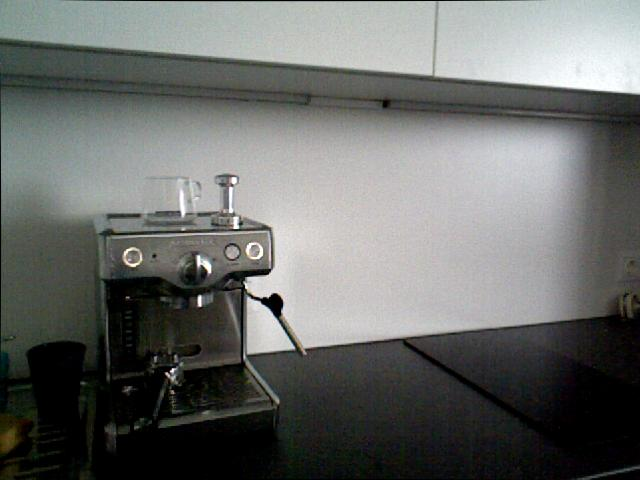giraffe: (615, 289, 640, 320)
handbag: (25, 339, 86, 425), (141, 175, 201, 223)
